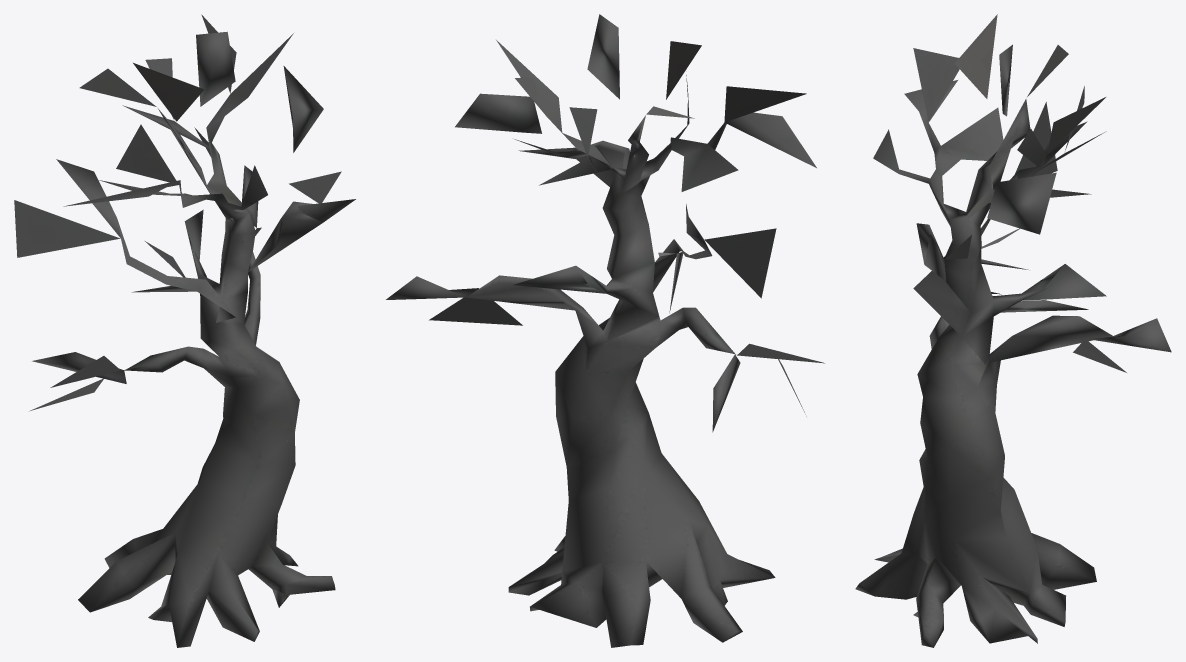
Rendered from tree_dead.glb.
3 renders of one model, left to right at view 1: azimuth 30°, elevation 25°; view 2: azimuth 150°, elevation 25°; view 3: azimuth 270°, elevation 25°, orthographic. The views are drawn at different scales.
Bounding box in the file's own units: 0.5737 × 0.9536 × 0.4917.
1 material, 1 textured.
